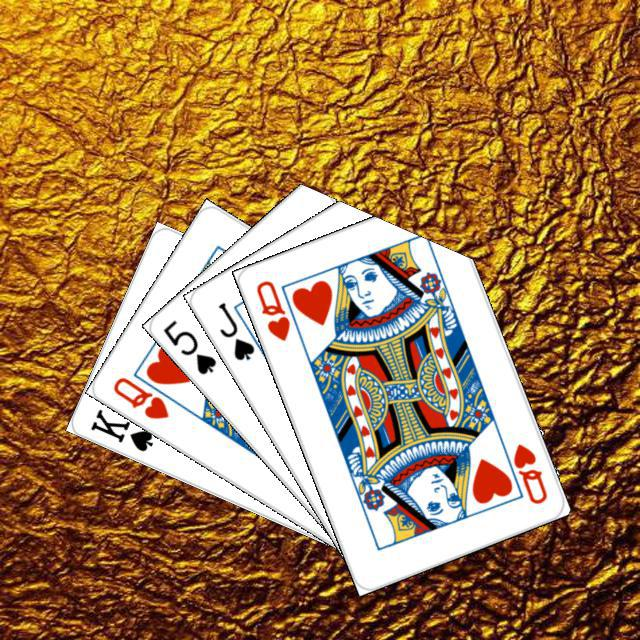5s: (158, 314, 218, 377)
Js: (213, 297, 257, 363)
Ks: (85, 404, 155, 453)
Qh: (495, 437, 549, 506), (107, 372, 171, 421), (251, 275, 292, 343)
